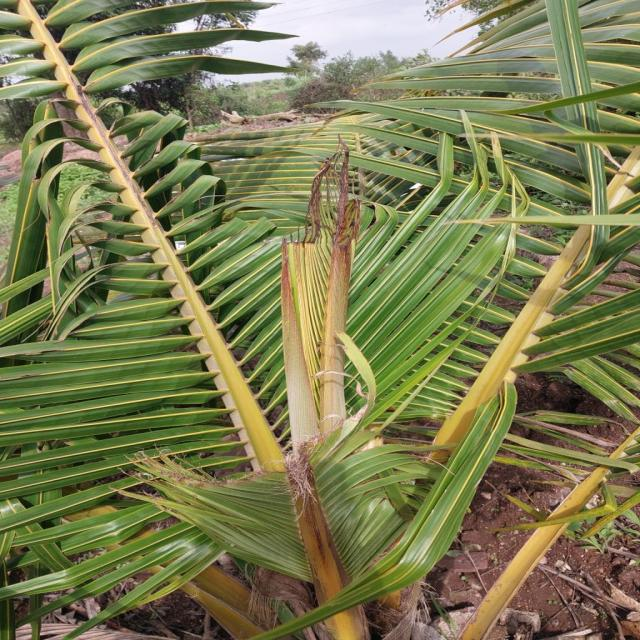bud rot: (282, 142, 360, 448)
